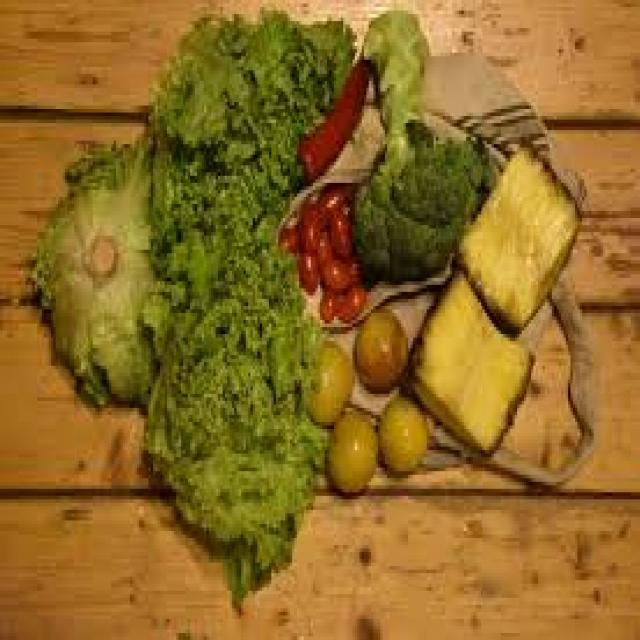organic waste: (139, 316, 322, 608), (28, 134, 174, 401), (350, 10, 487, 278), (146, 11, 353, 180), (401, 267, 533, 454), (454, 134, 578, 327), (148, 140, 290, 284), (146, 256, 304, 344), (288, 56, 367, 162), (324, 404, 376, 496), (350, 306, 408, 387), (302, 334, 350, 426), (378, 394, 427, 475), (327, 208, 350, 260), (322, 253, 352, 292), (336, 281, 366, 313), (316, 183, 344, 211), (297, 222, 320, 256), (294, 250, 316, 285), (318, 288, 336, 320), (294, 197, 318, 221), (313, 225, 325, 271), (278, 222, 294, 242)
